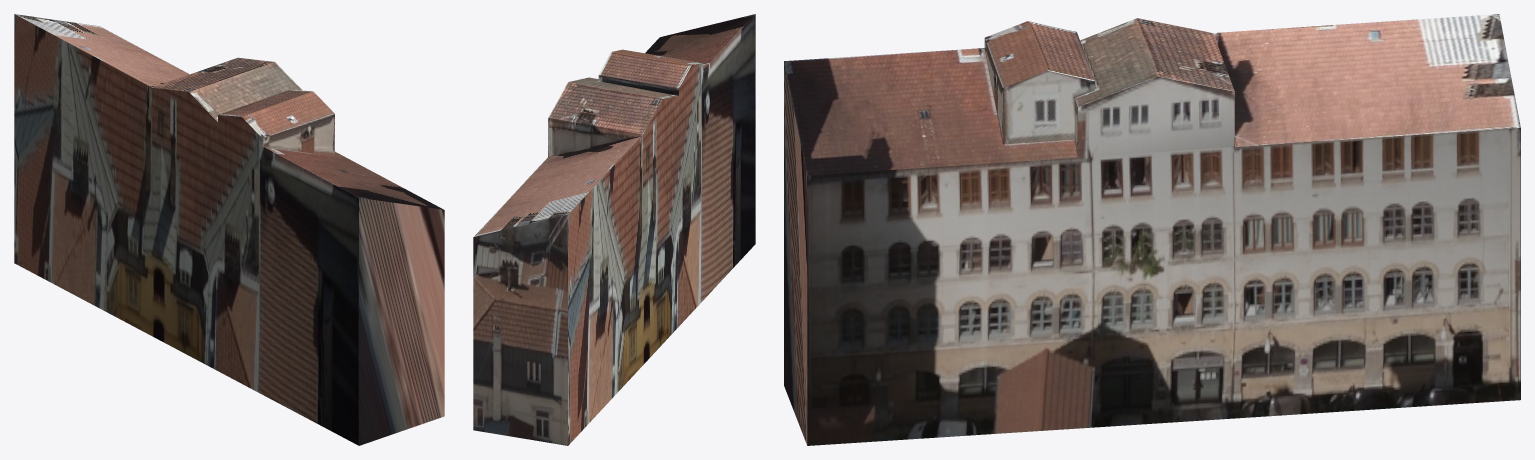
3 views of the same model, side by side, from view 1: azimuth 30°, elevation 25°; view 2: azimuth 150°, elevation 25°; view 3: azimuth 270°, elevation 25° (orthographic). The views are drawn at different scales.
Parts seen in each view (by area): view 1: Z_UP; view 2: Z_UP; view 3: Z_UP.
Boxes of the visible parts, bbox=[...] form: Z_UP: bbox=[14, 14, 444, 445]; Z_UP: bbox=[473, 14, 755, 445]; Z_UP: bbox=[784, 14, 1520, 445].
Bounding box in the file's own units: 13.32 × 20.55 × 39.22.
Materials: 2 (1 with a texture image).
